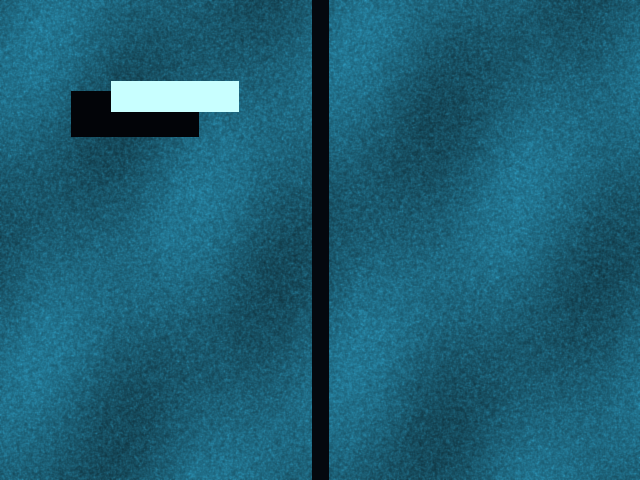Metal Object: (111, 81, 238, 111)
